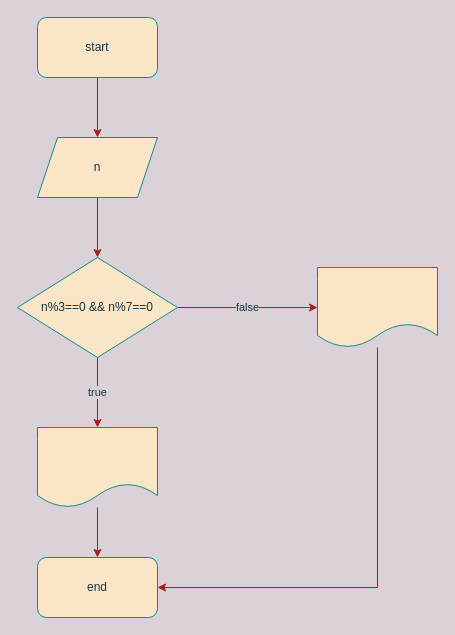
Some shapes in this 455 by 635 pixel diagram are drawn without their labels. Here are the shapes that lost their labels. From the top down, the centre of each, then its label:
the point at 377,307: not divided
the point at 97,467: divided
